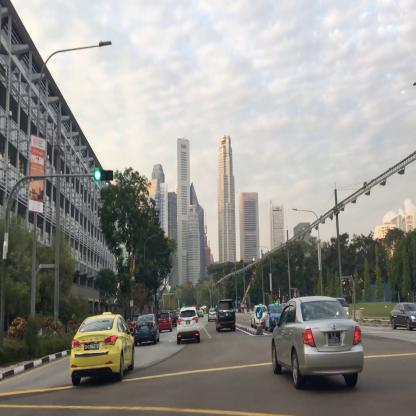green_traffic_light: (94, 169, 113, 180)
